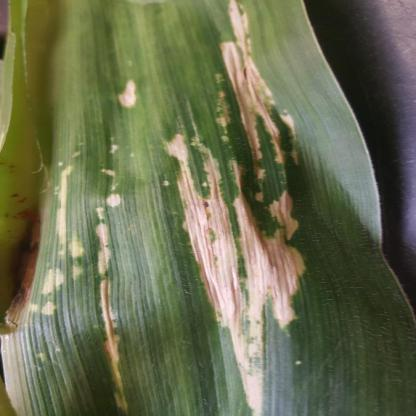corn leaf blight: (28, 1, 397, 416)
